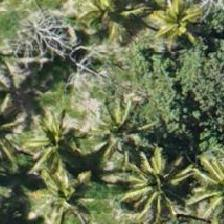coconut_tree: (114, 141, 204, 223), (25, 153, 115, 223)
